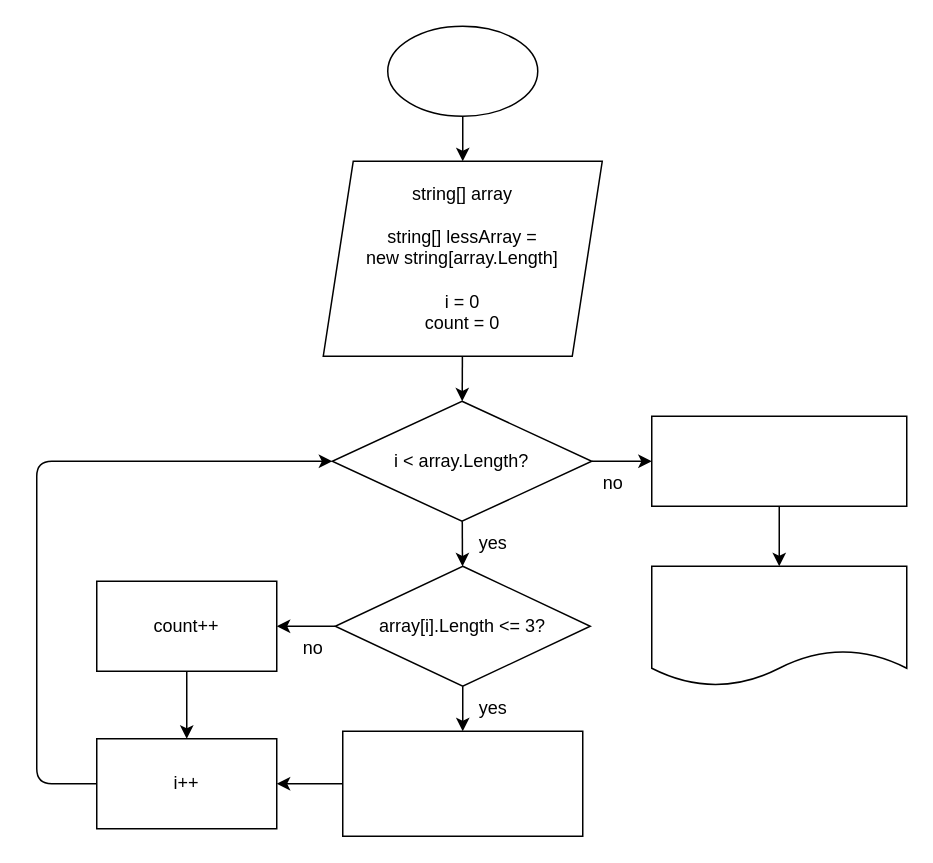
Some shapes in this 933 by 863 pixel diagram are drawn without their labels. The centre of each missing label's shape, as x and y in pixels:
"Array.Resize(ref lessArray, lessArray.Length - count)" goes at pixel 778 460.
"lessArray[i] = array[i]" goes at pixel 462 783.
"Start" goes at pixel 462 70.
